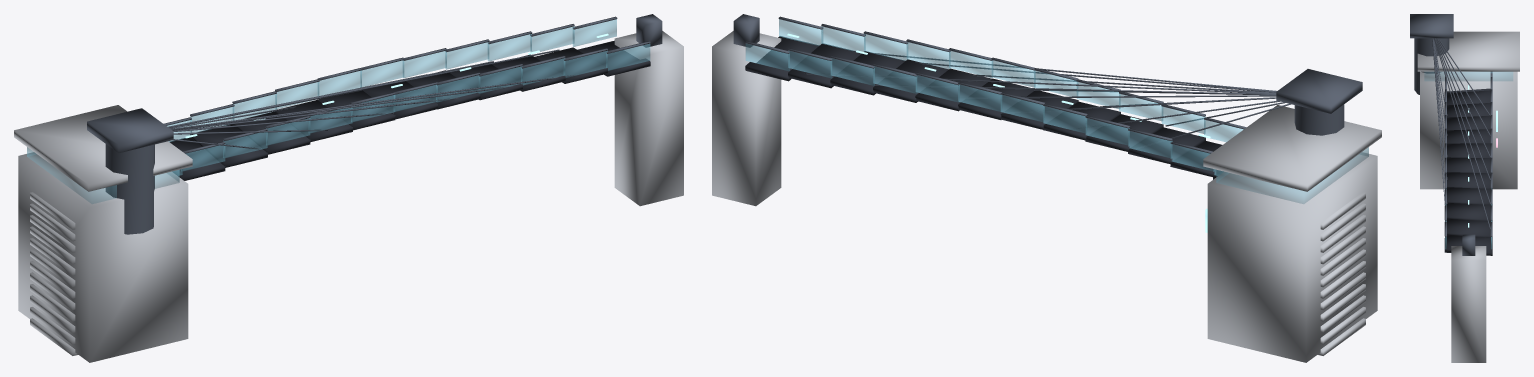
Rendered from kemmel_pedestrian_flyover.glb.
The picture shows the model from 3 angles, left to right: view 1: azimuth 30°, elevation 25°; view 2: azimuth 150°, elevation 25°; view 3: azimuth 270°, elevation 25°; orthographic projection. The views are drawn at different scales.
Parts seen in each view (by area): view 1: Surface_concrete, Surface_glass, Surface_deck, Surface_steel; view 2: Surface_concrete, Surface_glass, Surface_deck, Surface_steel; view 3: Surface_concrete, Surface_deck, Surface_steel, Surface_glass.
Part boxes in pixels (left/top/right/bottom): Surface_concrete: left=14, top=31, right=683, bottom=362; Surface_glass: left=27, top=19, right=650, bottom=203; Surface_deck: left=170, top=40, right=650, bottom=180; Surface_steel: left=87, top=14, right=662, bottom=234; Surface_concrete: left=712, top=31, right=1381, bottom=362; Surface_glass: left=745, top=19, right=1368, bottom=203; Surface_deck: left=745, top=36, right=1222, bottom=179; Surface_steel: left=733, top=14, right=1362, bottom=153; Surface_concrete: left=1417, top=31, right=1519, bottom=362; Surface_deck: left=1444, top=88, right=1492, bottom=255; Surface_steel: left=1410, top=14, right=1492, bottom=255; Surface_glass: left=1424, top=72, right=1512, bottom=249.
Size of the model in its own units: 45.2 by 15.41 by 10.1.
